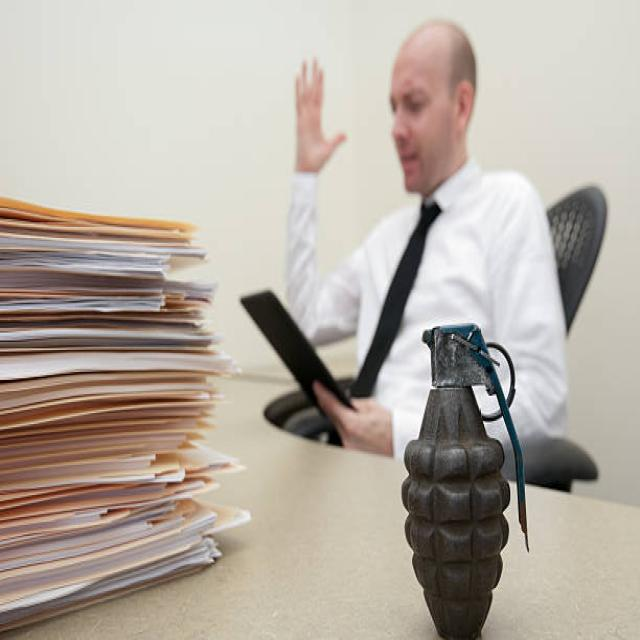grenade: (400, 307, 542, 640)
